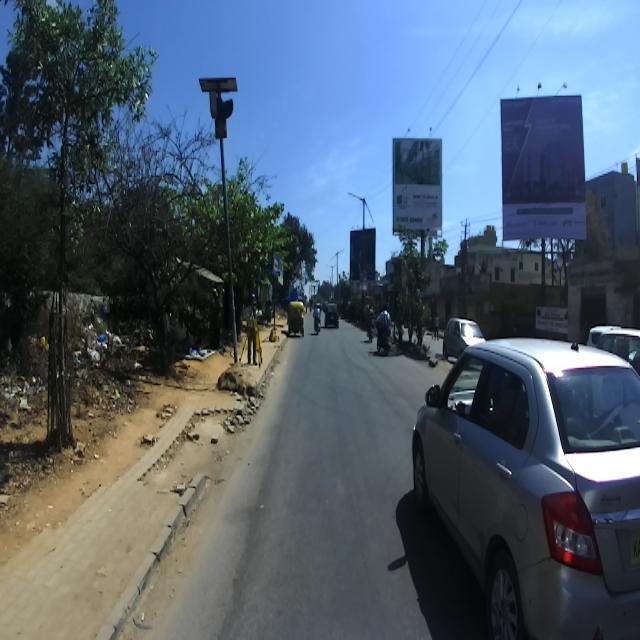car ahead at: (394, 324, 640, 640)
